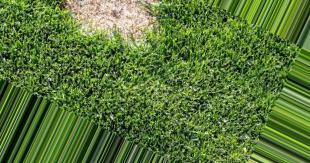patch: (79, 1, 160, 42), (68, 2, 77, 13)
